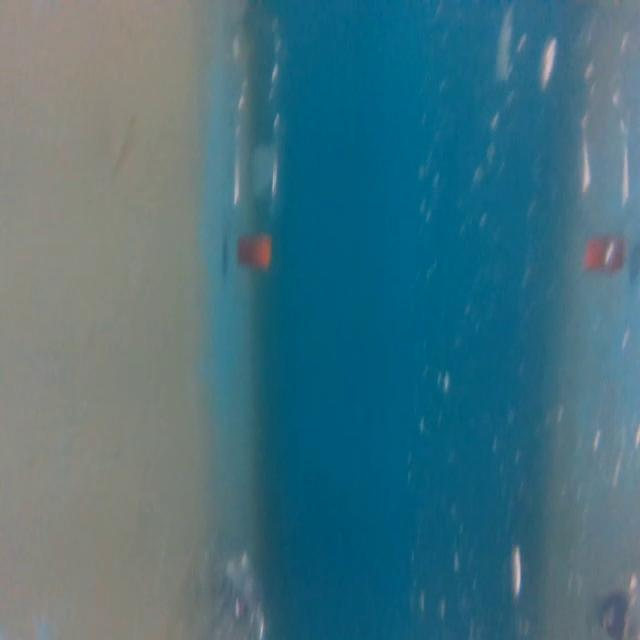plastic bottle: (223, 12, 295, 276)
